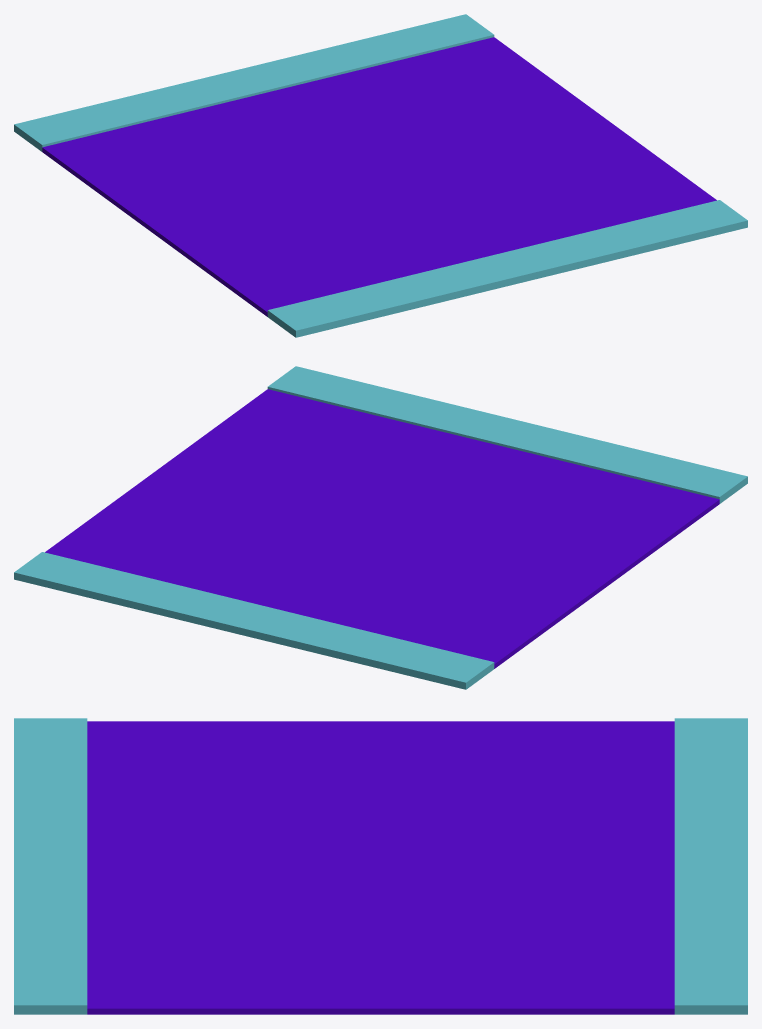
The model's file is flatStreet.fbx.
The picture shows the model from 3 angles, top to bottom: view 1: azimuth 30°, elevation 25°; view 2: azimuth 150°, elevation 25°; view 3: azimuth 270°, elevation 25°; orthographic projection. The views are drawn at different scales.
Visible parts, largest first — view 1: Cube; view 2: Cube; view 3: Cube.
Boxes of the visible parts, x1,y1,x2,y2 form: Cube: (14, 14, 747, 337); Cube: (14, 366, 747, 689); Cube: (14, 718, 747, 1014).
Size of the model in its own units: 2000 by 30 by 2160.
